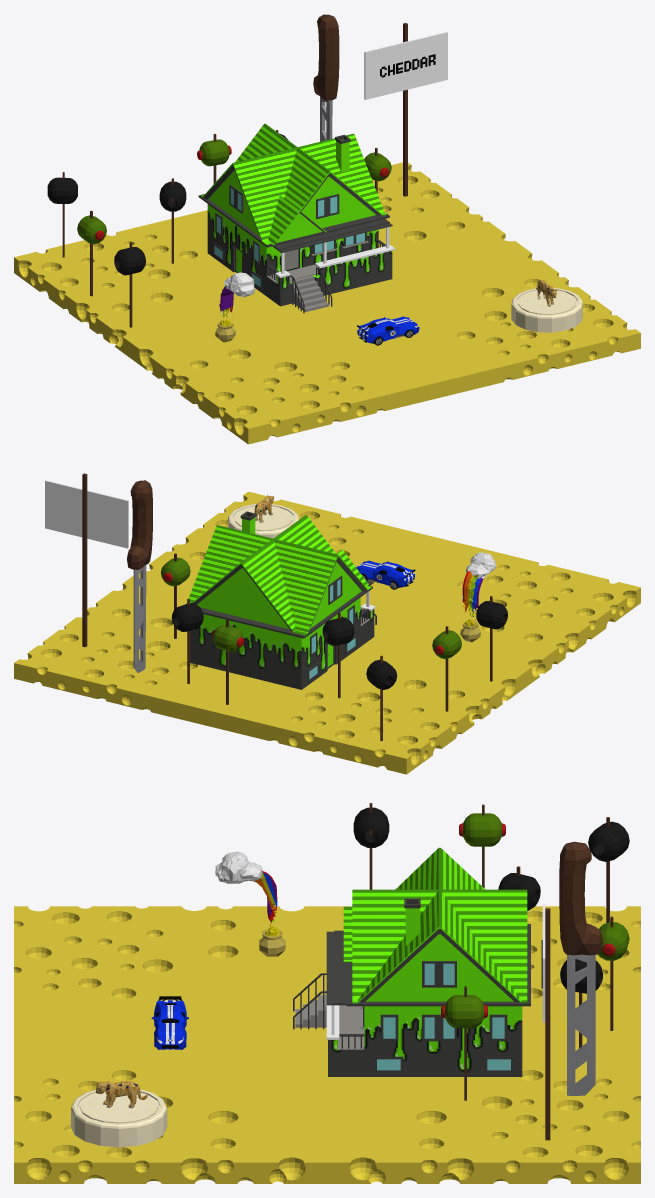
3 views of the same model, one above another, from view 1: azimuth 30°, elevation 25°; view 2: azimuth 150°, elevation 25°; view 3: azimuth 270°, elevation 25° (orthographic). The views are drawn at different scales.
Parts seen in each view (by area): view 1: Cube.022, Cube.754, Cube.023, Cylinder.016, Cube.024, OBJRANDOM_RAINBOW, VEHICLES_RACING_CAR, Sphere.017, Sphere.016, Sphere.020, Sphere.018, Sphere.022 (+1 smaller); view 2: Cube.022, Cube.754, Cube.023, Cube.024, OBJRANDOM_RAINBOW, Cylinder.016, VEHICLES_RACING_CAR, Sphere.017, Sphere.020, Sphere.021, Sphere.016, Sphere.018 (+2 smaller); view 3: Cube.022, Cube.754, Cube.024, Cylinder.016, OBJRANDOM_RAINBOW, Cube.023, VEHICLES_RACING_CAR, Sphere.019, Sphere.016, Sphere.018, Sphere.017, Sphere.022 (+3 smaller).
Boxes of the visible parts, x1,y1,x2,y2 form: Cube.022: [14, 162, 640, 444]; Cube.754: [198, 123, 395, 313]; Cube.023: [364, 23, 447, 196]; Cylinder.016: [511, 288, 582, 332]; Cube.024: [313, 14, 339, 141]; OBJRANDOM_RAINBOW: [215, 272, 255, 342]; VEHICLES_RACING_CAR: [357, 316, 419, 345]; Sphere.017: [114, 242, 145, 327]; Sphere.016: [47, 172, 77, 257]; Sphere.020: [159, 178, 186, 263]; Sphere.018: [77, 210, 106, 296]; Sphere.022: [197, 134, 231, 183]; Cube.022: [14, 491, 640, 774]; Cube.754: [185, 511, 376, 689]; Cube.023: [45, 473, 128, 647]; Cube.024: [127, 480, 152, 672]; OBJRANDOM_RAINBOW: [460, 552, 495, 642]; Cylinder.016: [228, 504, 298, 538]; VEHICLES_RACING_CAR: [356, 560, 415, 589]; Sphere.017: [476, 596, 507, 681]; Sphere.020: [322, 612, 354, 698]; Sphere.021: [171, 598, 203, 683]; Sphere.016: [366, 655, 397, 741]; Sphere.018: [432, 626, 461, 711]; Cube.022: [14, 906, 640, 1183]; Cube.754: [293, 847, 530, 1076]; Cube.024: [559, 841, 602, 1095]; Cylinder.016: [71, 1089, 167, 1147]; OBJRANDOM_RAINBOW: [215, 851, 285, 956]; Cube.023: [541, 904, 550, 1140]; VEHICLES_RACING_CAR: [151, 996, 188, 1049]; Sphere.019: [441, 986, 487, 1100]; Sphere.016: [588, 817, 629, 922]; Sphere.018: [459, 804, 505, 888]; Sphere.017: [353, 803, 389, 889]; Sphere.022: [598, 916, 629, 1030].
Bounding box in the file's own units: 3917 × 2007 × 4000.
46 materials, 4 textured.
